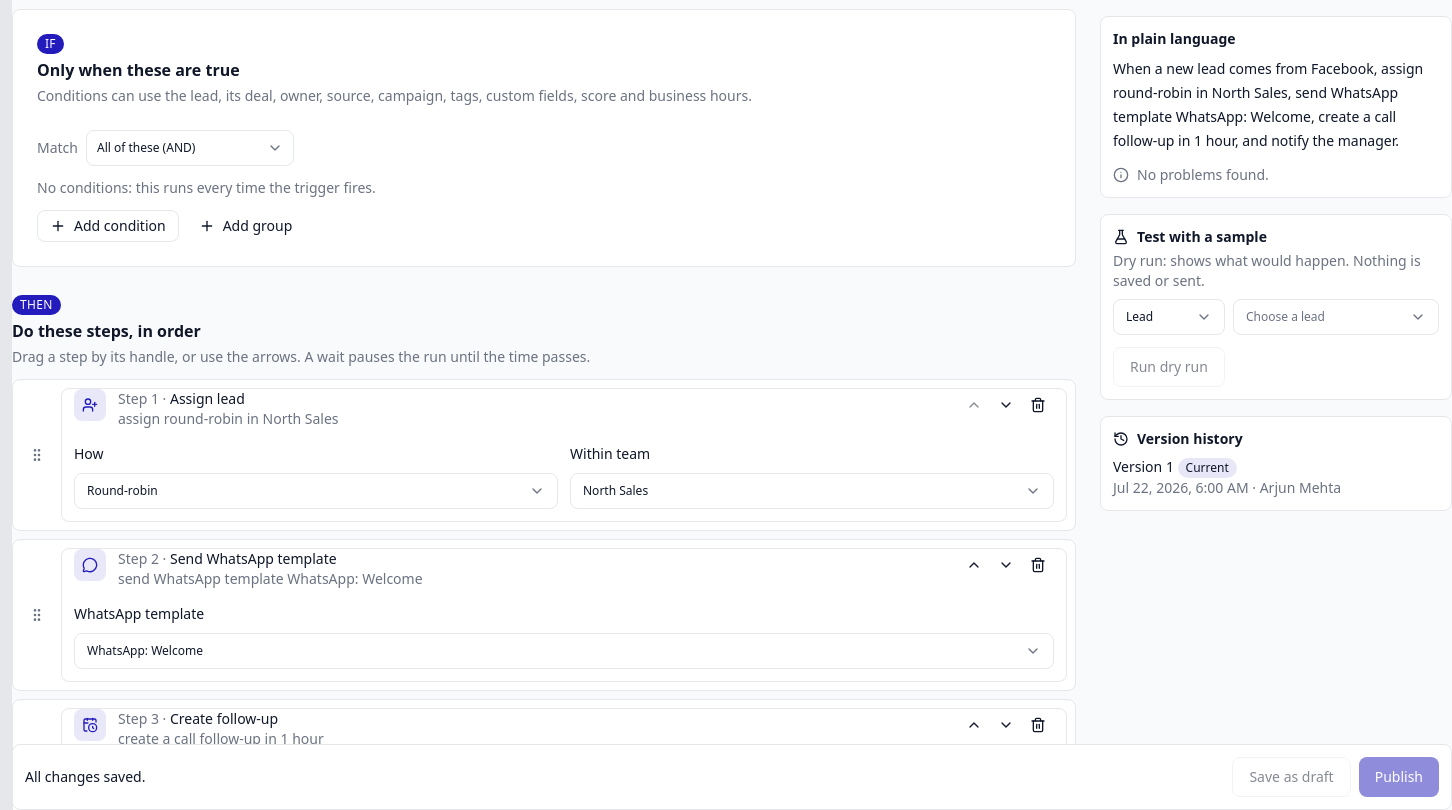
automation builder › reorders steps with the keyboard-friendly buttons and tracks unsaved changes
(page scrolled)
Expected: the text "All changes saved." is shown, [25,767,146,787]
Click the button named "Move step 1, Assign lead, down" at (1006, 405), box [990,389,1022,421]
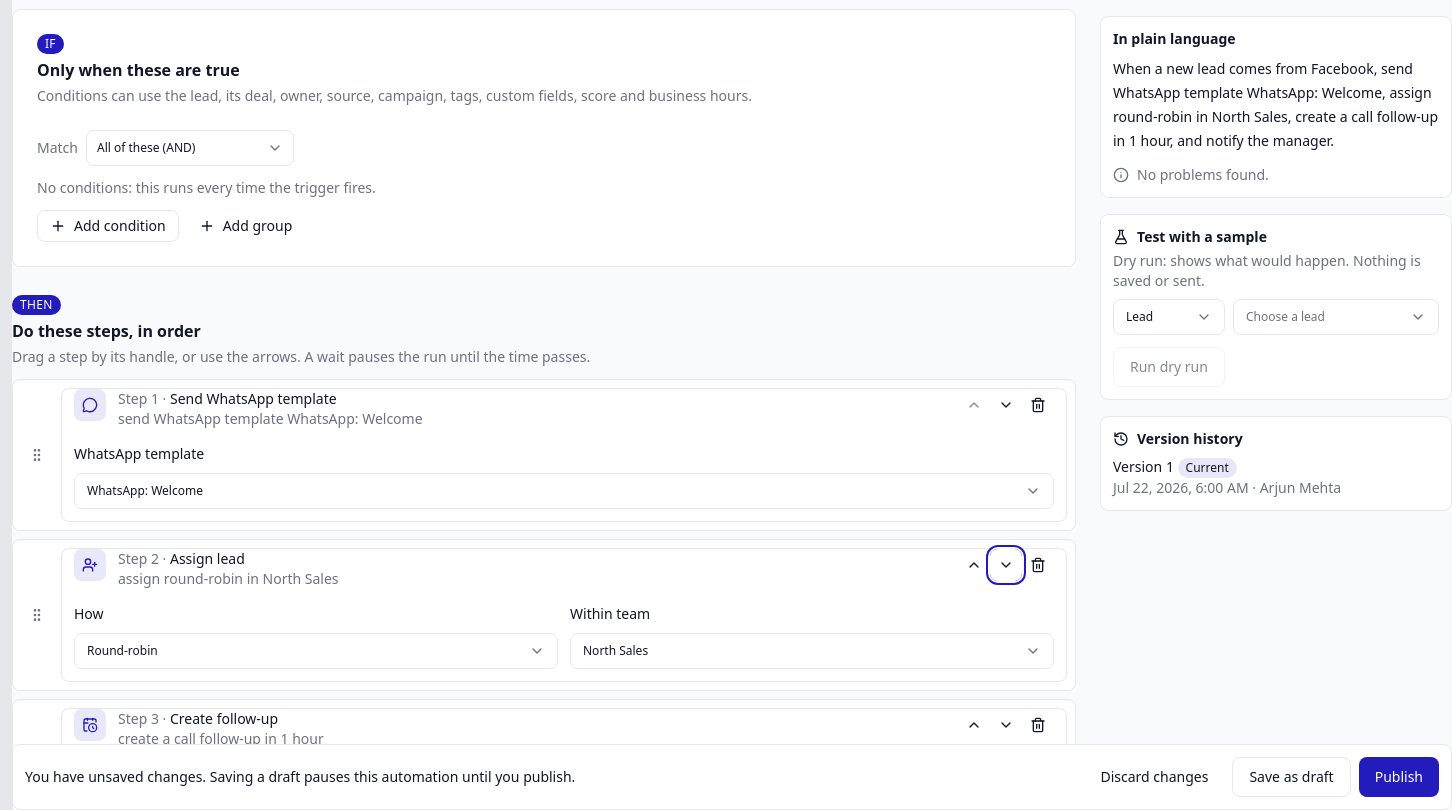
Expected: the text "You have unsaved changes" is shown, [25,767,575,786]
Expected: the button "Save as draft" is enabled, [1232,757,1351,797]
